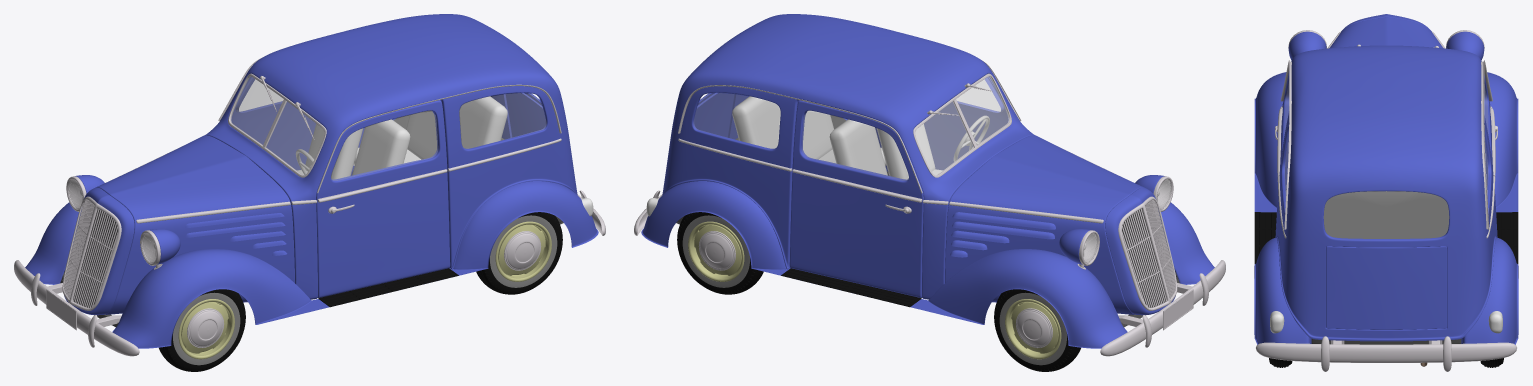
The model's file is vintage_car_extended.gltf.
The picture shows the model from 3 angles, left to right: view 1: azimuth 30°, elevation 25°; view 2: azimuth 150°, elevation 25°; view 3: azimuth 270°, elevation 25°; orthographic projection. The views are drawn at different scales.
Parts seen in each view (by area): view 1: 12_CarPaint, 26_WindowGlass, 27_WindowGlass, 38_Chrome, 01_Seats, 02_Seats, 40_WheelPaint, 20_DarkRubber, 21_WhiteRubber, 41_RoughSteel, 35_Chrome, 19_RoughSteel (+11 smaller); view 2: 12_CarPaint, 26_WindowGlass, 27_WindowGlass, 02_Seats, 38_Chrome, 01_Seats, 40_WheelPaint, 20_DarkRubber, 21_WhiteRubber, 44_CarPaint, 41_RoughSteel, 35_Chrome (+12 smaller); view 3: 12_CarPaint, 01_Seats, 25_Chrome, 14_DarkRubber, 10_CarPaint, 42_RoughSteel, 19_RoughSteel, 26_WindowGlass, 32_CarBottom, 20_DarkRubber, 00_Seats, 15_Seats.
Part boxes in pixels (left/top/right/bottom): 12_CarPaint: left=25, top=14, right=598, bottom=348; 26_WindowGlass: left=331, top=93, right=546, bottom=180; 27_WindowGlass: left=230, top=76, right=324, bottom=174; 38_Chrome: left=63, top=200, right=117, bottom=307; 01_Seats: left=353, top=96, right=507, bottom=165; 02_Seats: left=297, top=119, right=410, bottom=179; 40_WheelPaint: left=178, top=221, right=551, bottom=359; 20_DarkRubber: left=64, top=212, right=562, bottom=371; 21_WhiteRubber: left=173, top=215, right=557, bottom=365; 41_RoughSteel: left=187, top=231, right=541, bottom=347; 35_Chrome: left=14, top=260, right=139, bottom=356; 19_RoughSteel: left=112, top=138, right=561, bottom=223; 12_CarPaint: left=641, top=14, right=1214, bottom=348; 26_WindowGlass: left=693, top=93, right=908, bottom=180; 27_WindowGlass: left=915, top=76, right=1009, bottom=174; 02_Seats: left=829, top=119, right=942, bottom=179; 38_Chrome: left=1122, top=200, right=1176, bottom=307; 01_Seats: left=732, top=96, right=886, bottom=165; 40_WheelPaint: left=688, top=221, right=1061, bottom=359; 20_DarkRubber: left=677, top=212, right=1175, bottom=371; 21_WhiteRubber: left=682, top=215, right=1066, bottom=365; 44_CarPaint: left=950, top=212, right=1055, bottom=257; 41_RoughSteel: left=698, top=231, right=1052, bottom=347; 35_Chrome: left=1100, top=260, right=1225, bottom=356; 12_CarPaint: left=1254, top=14, right=1518, bottom=344; 01_Seats: left=1323, top=191, right=1449, bottom=238; 25_Chrome: left=1256, top=336, right=1516, bottom=371; 14_DarkRubber: left=1254, top=212, right=1518, bottom=263; 10_CarPaint: left=1288, top=31, right=1484, bottom=60; 42_RoughSteel: left=1280, top=60, right=1492, bottom=229; 19_RoughSteel: left=1277, top=31, right=1495, bottom=238; 26_WindowGlass: left=1284, top=84, right=1488, bottom=199; 32_CarBottom: left=1311, top=339, right=1461, bottom=344; 20_DarkRubber: left=1269, top=358, right=1503, bottom=367; 00_Seats: left=1270, top=311, right=1284, bottom=333; 15_Seats: left=1488, top=311, right=1502, bottom=333.
Size of the model in its own units: 9.91 by 4.21 by 4.26.
